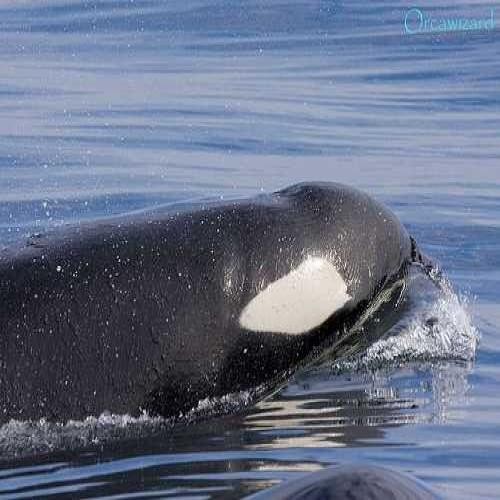killer_whale-endangered: (0, 137, 431, 446)
